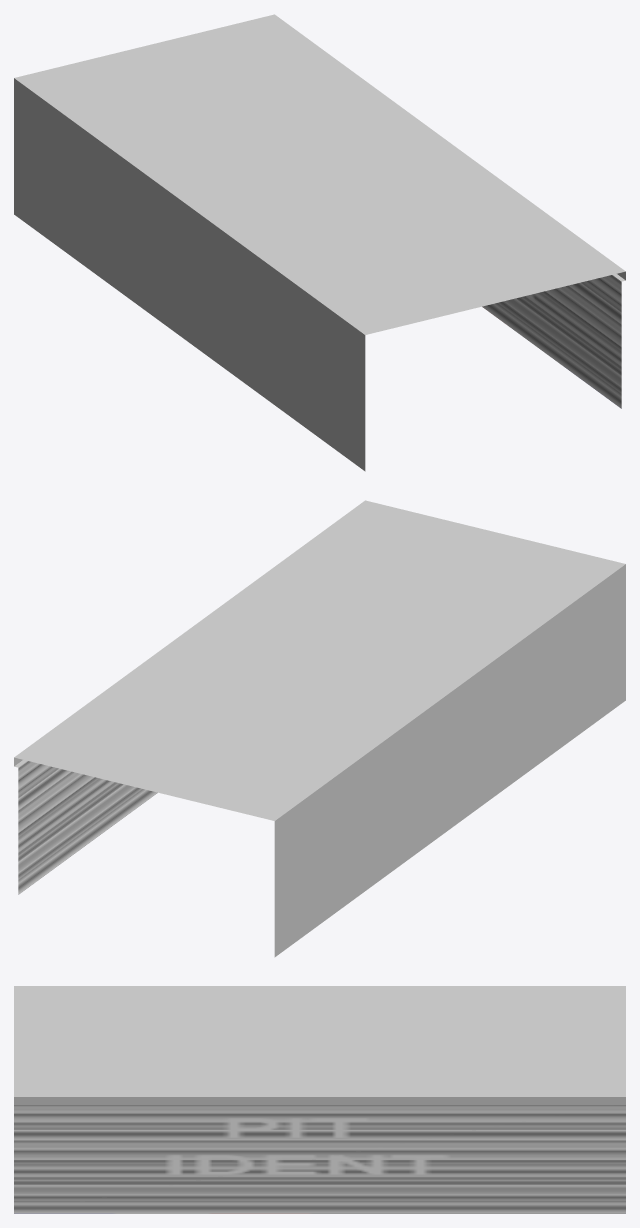
The model's file is stand-main.glb.
The picture shows the model from 3 angles, top to bottom: view 1: azimuth 30°, elevation 25°; view 2: azimuth 150°, elevation 25°; view 3: azimuth 270°, elevation 25°; orthographic projection. The views are drawn at different scales.
Visible parts, largest first — view 1: poly_001, logo_000; view 2: poly_001, logo_000; view 3: poly_001, logo_000.
Part boxes in pixels (x1,y1,x2,y2): poly_001: [14, 14, 625, 471]; logo_000: [482, 275, 621, 408]; poly_001: [14, 500, 625, 957]; logo_000: [18, 761, 157, 894]; poly_001: [14, 986, 625, 1104]; logo_000: [14, 1105, 625, 1213].
Bounding box in the file's own units: 6 × 3 × 14.
Materials: 2 (1 with a texture image).
